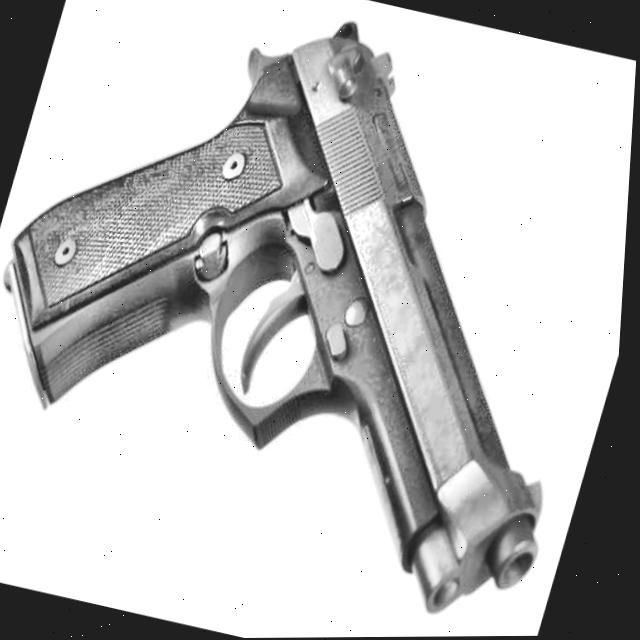pistol: (0, 5, 556, 632)
